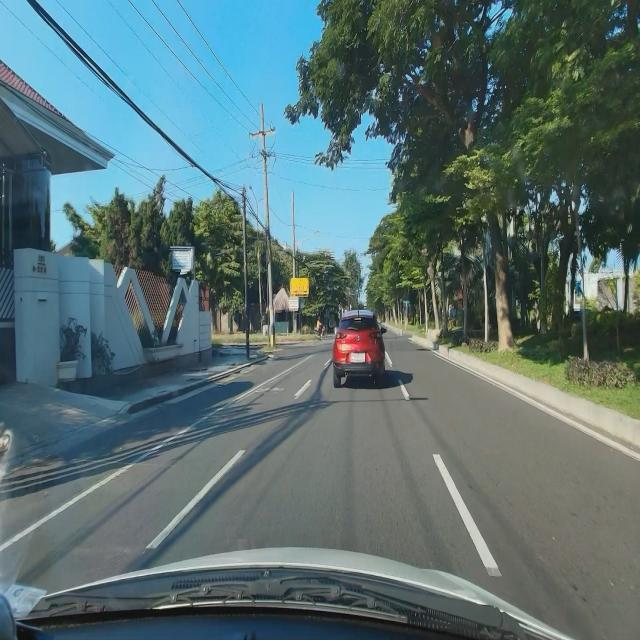car: (332, 307, 388, 389)
